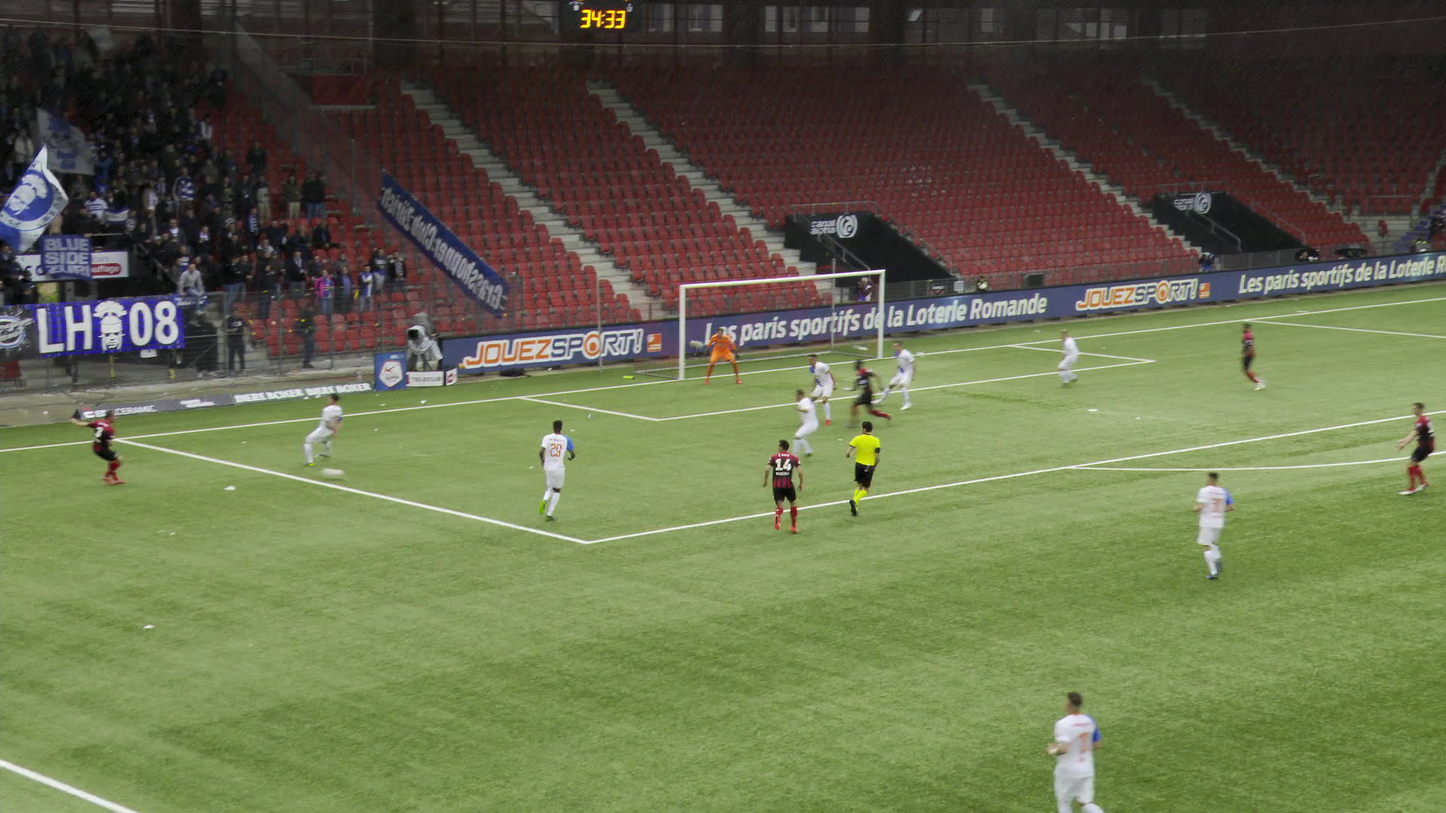ball: (289, 464, 309, 471)
player: (1057, 687, 1119, 812), (1197, 471, 1243, 577), (537, 417, 578, 519), (72, 410, 129, 483), (764, 437, 802, 536), (1401, 400, 1437, 494), (307, 389, 346, 463), (850, 357, 891, 425), (790, 388, 825, 462), (1243, 321, 1281, 387), (889, 337, 924, 408), (705, 324, 746, 381), (806, 352, 838, 422), (1059, 327, 1093, 385)
referee: (847, 418, 886, 515)
